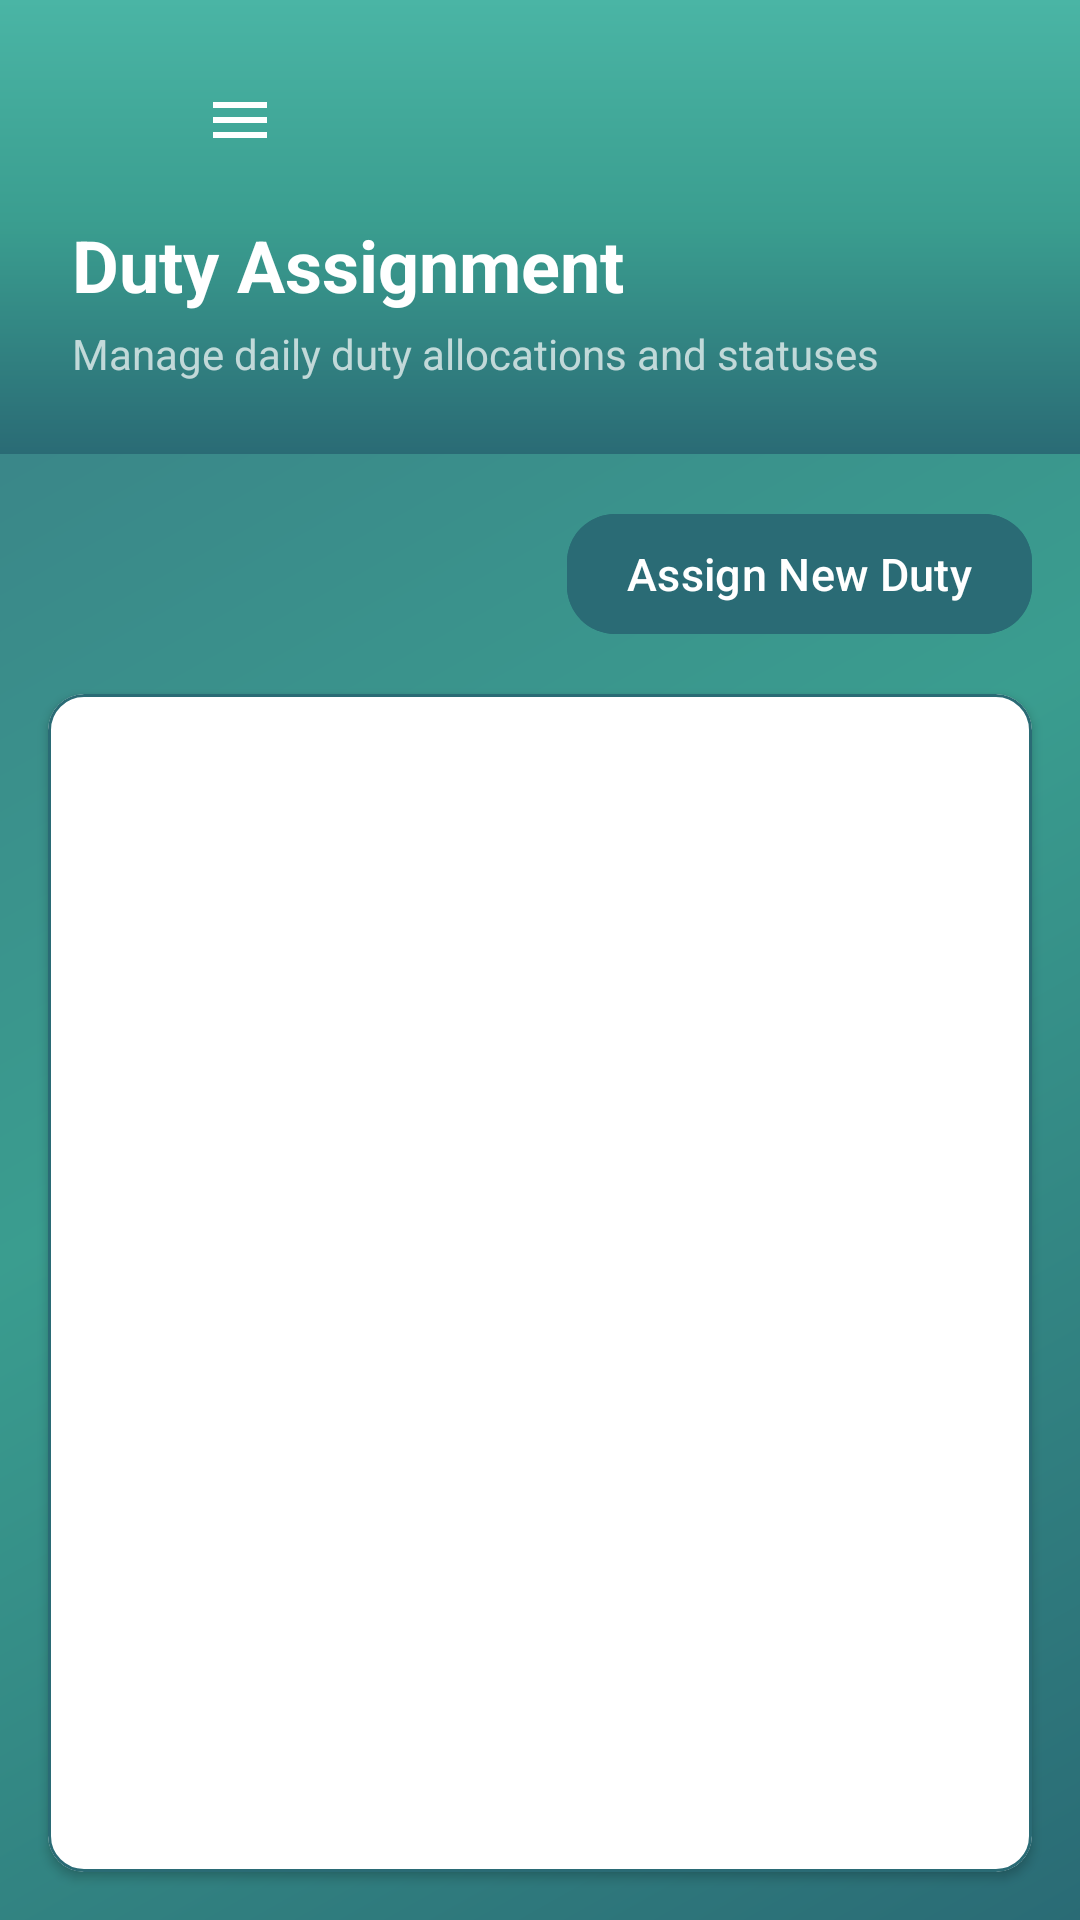

Icons on this 1080*1920 Android screen, each with its box as (x1, y1, x2, y2):
Menu: (213, 102, 267, 138)
